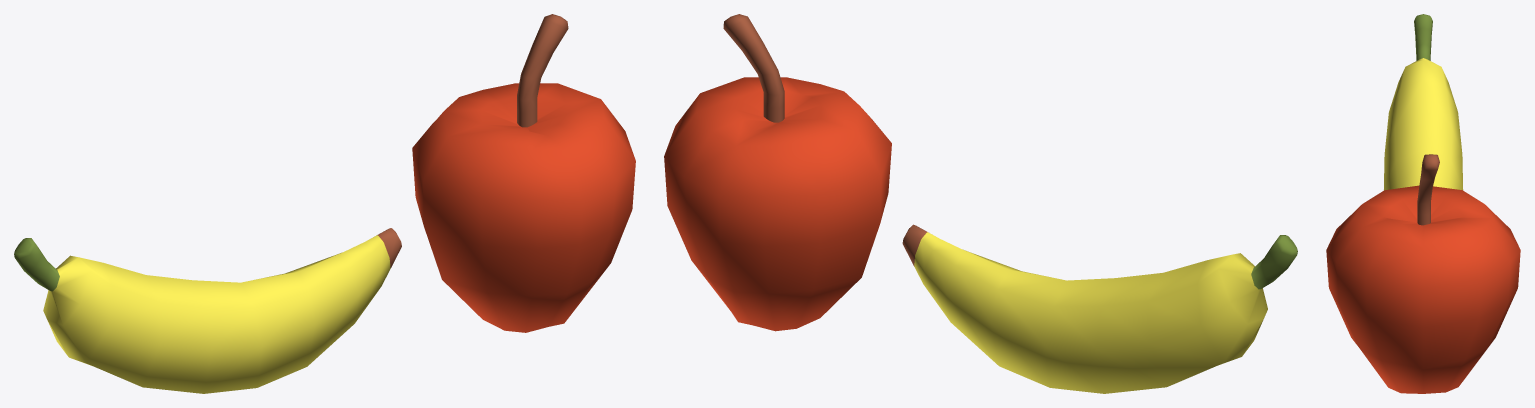
File: low_poly_fruits.glb
3 views of the same model, side by side, from view 1: azimuth 30°, elevation 25°; view 2: azimuth 150°, elevation 25°; view 3: azimuth 270°, elevation 25° (orthographic). The views are drawn at different scales.
Visible parts, largest first — view 1: Cube; view 2: Cube; view 3: Cube.
Boxes of the visible parts, bbox=[...] form: Cube: bbox=[14, 14, 635, 393]; Cube: bbox=[664, 14, 1297, 393]; Cube: bbox=[1326, 14, 1520, 393].
Size of the model in its own units: 6.11 by 2.73 by 2.01.
